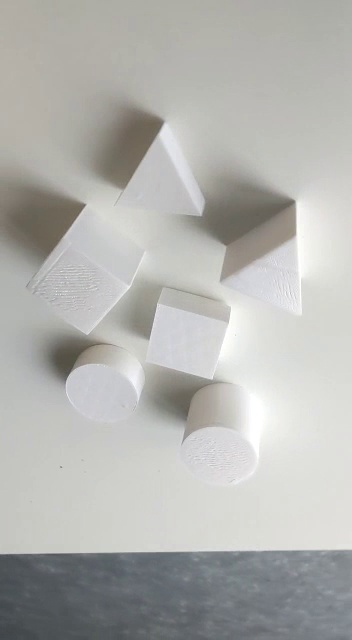Clyinder_short: (61, 342, 148, 429)
Cube: (25, 200, 148, 344)
Cube_short: (142, 283, 234, 385)
Cylinder: (179, 381, 261, 490)
Triangle: (218, 198, 315, 321)
Triangle_short: (114, 117, 210, 223)
